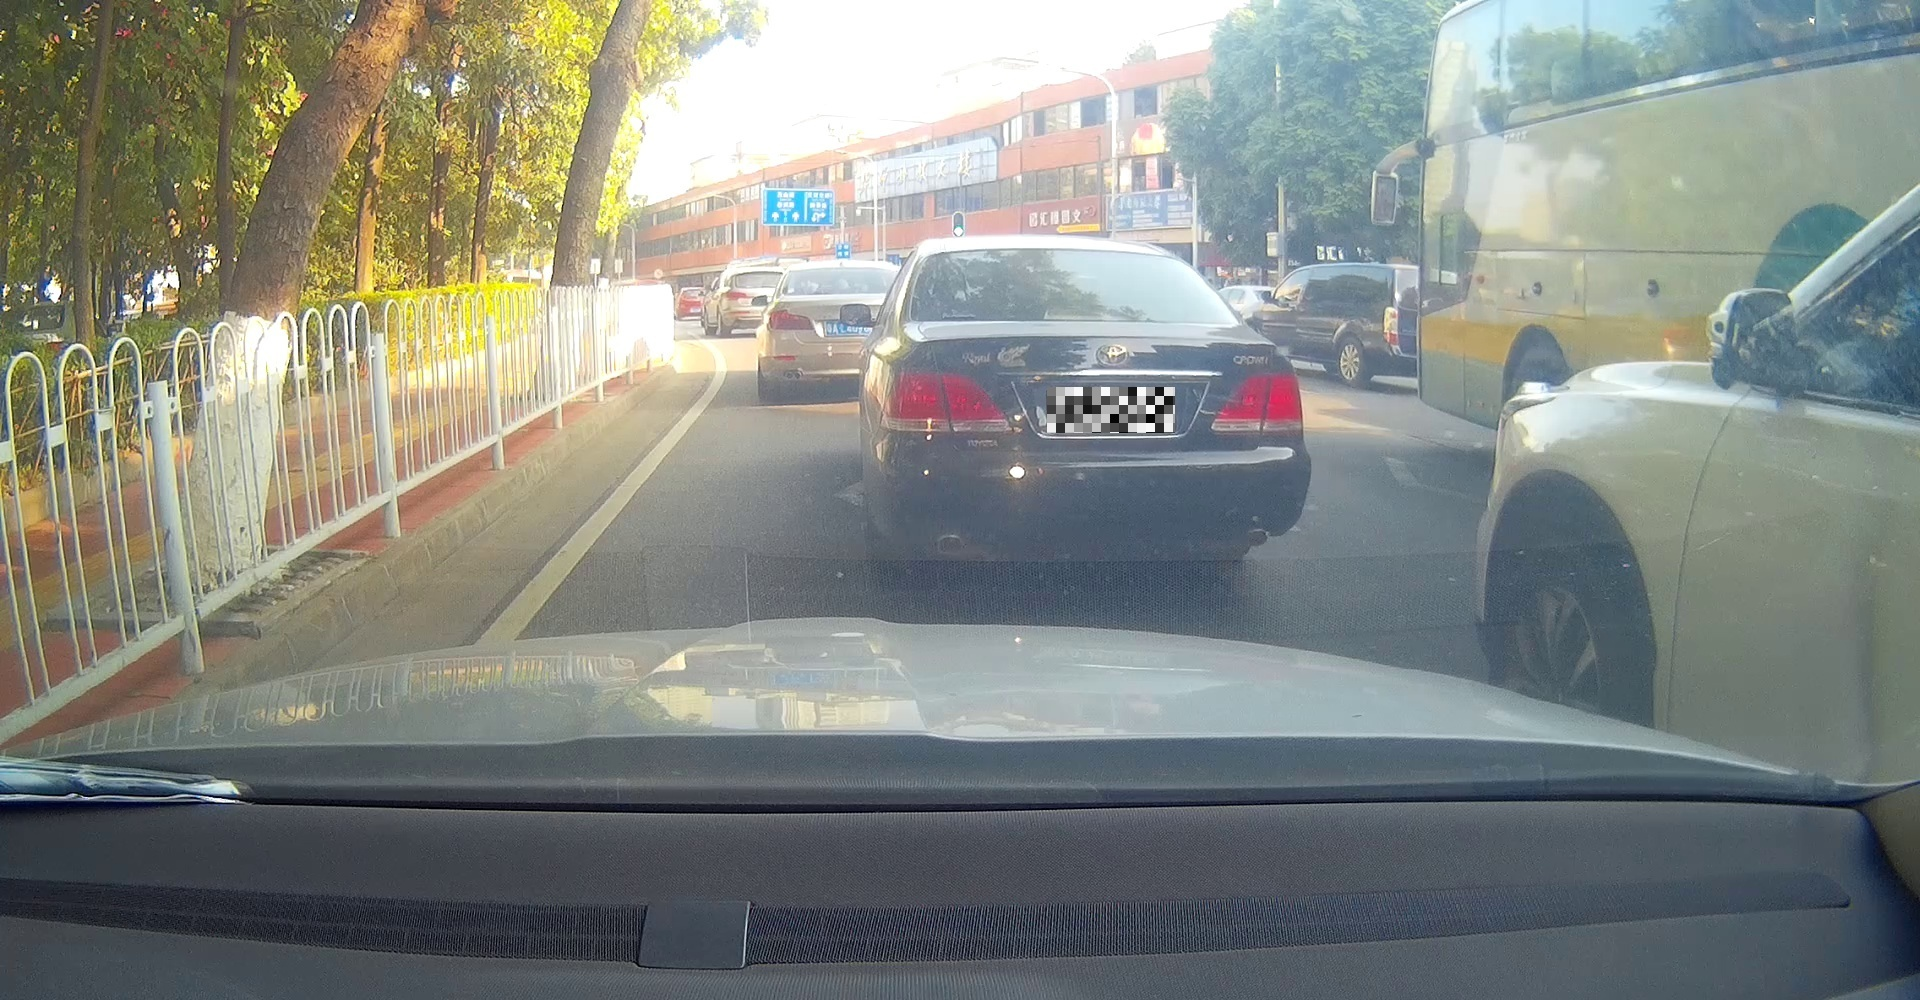L_light: (879, 368, 1015, 433)
R_light: (1210, 373, 1303, 433)
T_light: (1043, 308, 1126, 321)
day-no: (876, 234, 1312, 584)
plate_1: (1048, 387, 1175, 433)
